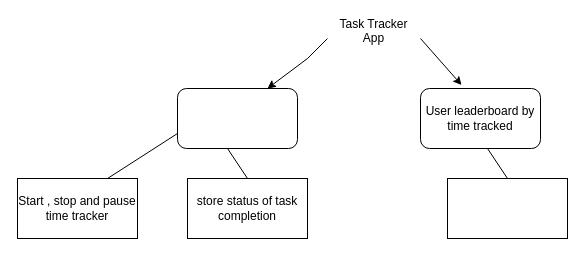
Image size: 585x256. Some labels were removed from this diagram. Here are the shapes that lost their labels. From the top down, the centre of each, then its label:
At point 237,118: "Create a checklist of tasks to be completed".
At point 507,208: "provide each user's personal time chart of time tracked".
